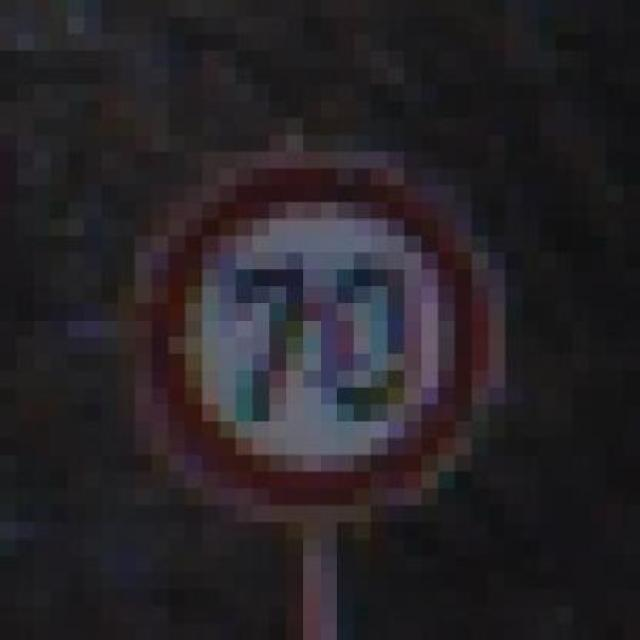forb_speed_over_70: (152, 163, 490, 506)
